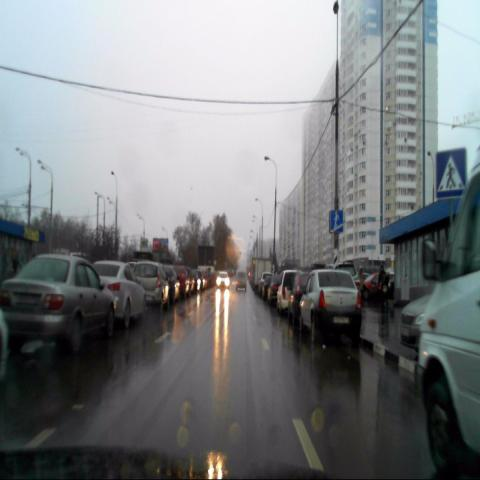6_6: (329, 210, 343, 233)
